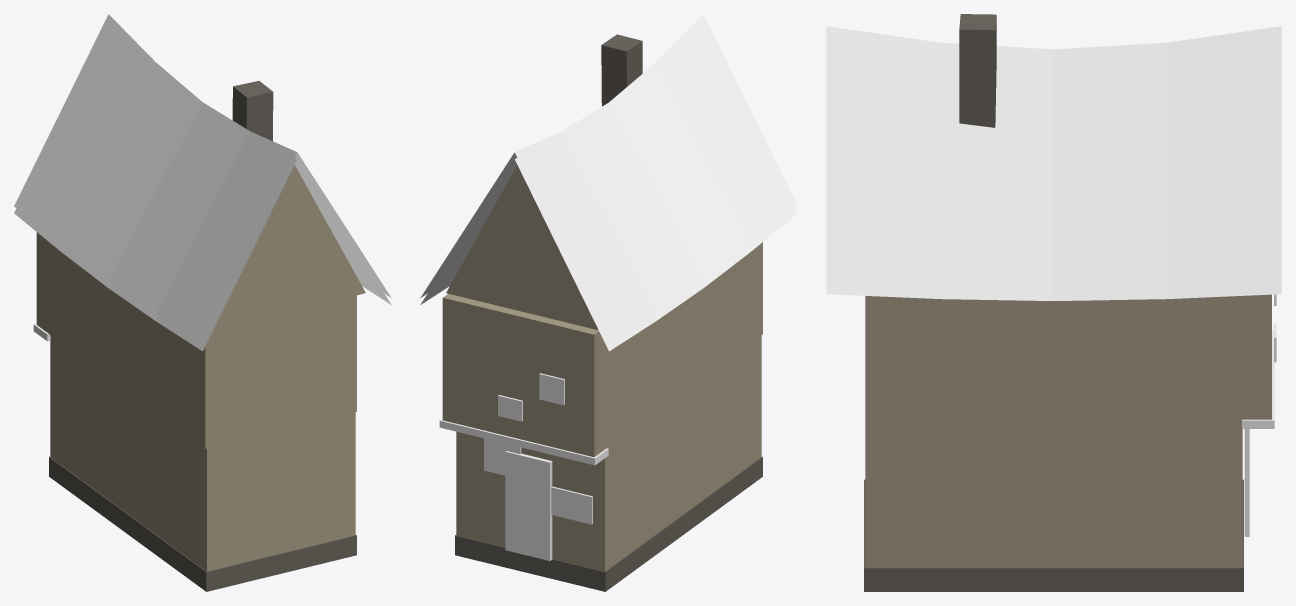
File: house_narrow_poor_b_lod1.glb
3 views of the same model, side by side, from view 1: azimuth 30°, elevation 25°; view 2: azimuth 150°, elevation 25°; view 3: azimuth 270°, elevation 25° (orthographic). The views are drawn at different scales.
Visible parts, largest first — view 1: house_narrow_poor_b_lod1; view 2: house_narrow_poor_b_lod1; view 3: house_narrow_poor_b_lod1.
Boxes of the visible parts, box(x1,y1,x2,y2) form: house_narrow_poor_b_lod1: box(14, 14, 391, 591); house_narrow_poor_b_lod1: box(420, 14, 797, 591); house_narrow_poor_b_lod1: box(826, 14, 1281, 591).
Bounding box in the file's own units: 4.02 × 9.05 × 6.95.
